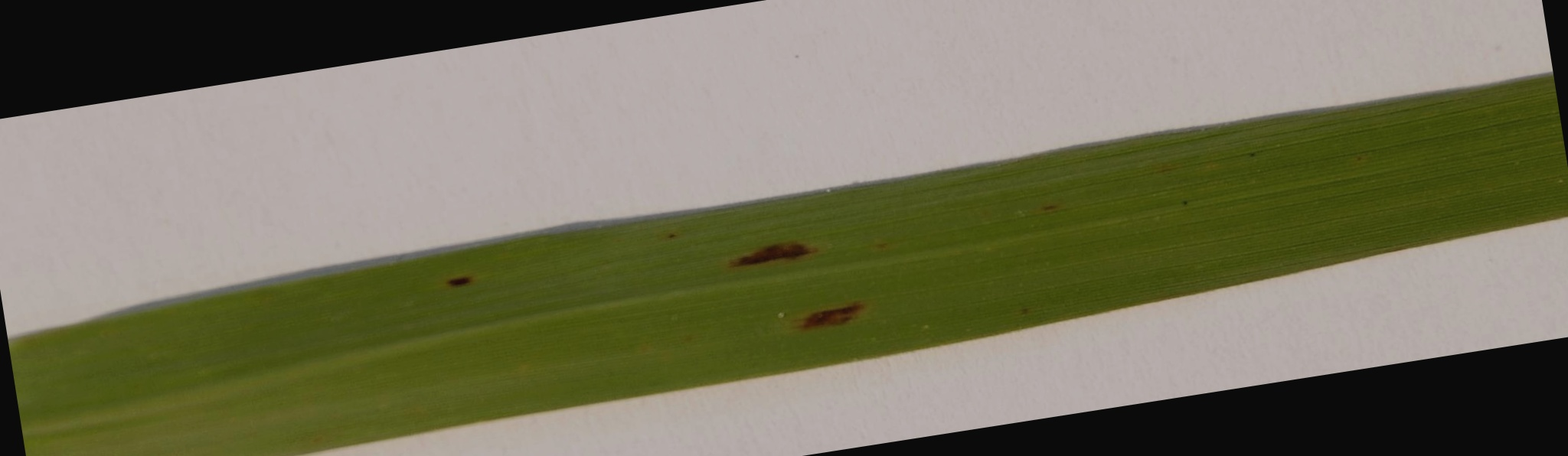Bacterial_Leaf_Blight: (713, 218, 866, 285), (787, 295, 911, 333), (422, 265, 508, 302)
